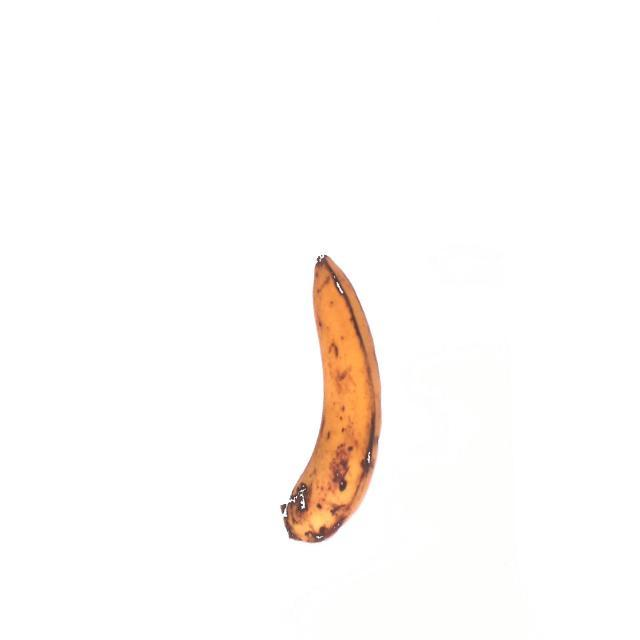banana: (282, 242, 383, 544)
